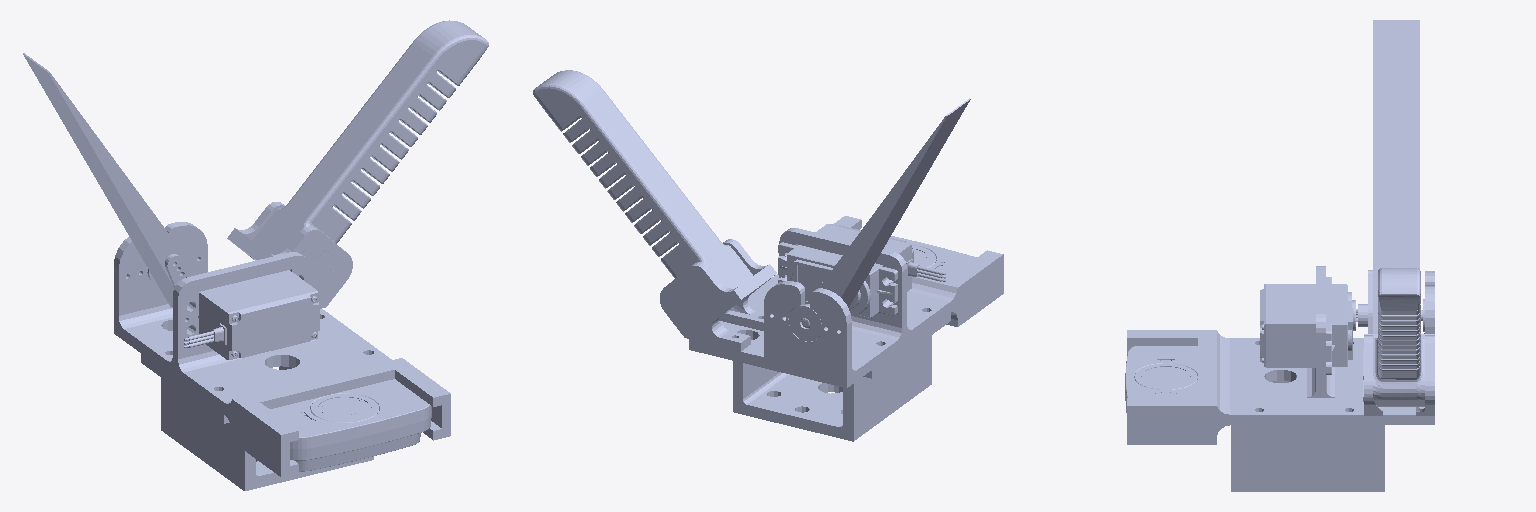
The robot description file, URDF, robot "hybrid_griper_v3":
<?xml version="1.0" encoding="utf-8"?>
<!-- This URDF was automatically created by SolidWorks to URDF Exporter! Originally created by [author] ([email redacted])
     Commit Version: 1.5.1-0-g916b5db  Build Version: 1.5.7152.31018
     For more information, please see http://wiki.ros.org/sw_urdf_exporter -->
<robot
  name="hybrid_griper_v3">
  <link
    name="base_link">
    <inertial>
      <origin
        xyz="-0.000320761764060993 -0.0099655398508367 0.0371236864658835"
        rpy="0 0 0" />
      <mass
        value="0.175783856174279" />
      <inertia
        ixx="0.000113489188478817"
        ixy="5.61258211541969E-06"
        ixz="2.09431938452274E-06"
        iyy="8.64631177239551E-05"
        iyz="-7.66839121143775E-06"
        izz="0.000173058088601769" />
    </inertial>
    <visual>
      <origin
        xyz="0 0 0"
        rpy="0 0 0" />
      <geometry>
        <mesh
          filename="package://hybrid_griper_v3/meshes/base_link.STL" />
      </geometry>
      <material
        name="">
        <color
          rgba="0.792156862745098 0.819607843137255 0.933333333333333 1" />
      </material>
    </visual>
    <collision>
      <origin
        xyz="0 0 0"
        rpy="0 0 0" />
      <geometry>
        <mesh
          filename="package://hybrid_griper_v3/meshes/base_link.STL" />
      </geometry>
    </collision>
  </link>
  <link
    name="soft_tip_link">
    <inertial>
      <origin
        xyz="0.0513127009948888 5.77278609636966E-08 -0.043364297507428"
        rpy="0 0 0" />
      <mass
        value="0.0267549348618613" />
      <inertia
        ixx="2.15591207240061E-05"
        ixy="5.21330174564123E-11"
        ixz="1.8473049274251E-05"
        iyy="3.93840137119763E-05"
        iyz="-3.51868336287335E-11"
        izz="1.9846792382987E-05" />
    </inertial>
    <visual>
      <origin
        xyz="0 0 0"
        rpy="0 0 0" />
      <geometry>
        <mesh
          filename="package://hybrid_griper_v3/meshes/soft_tip_link.STL" />
      </geometry>
      <material
        name="">
        <color
          rgba="0.792156862745098 0.819607843137255 0.933333333333333 1" />
      </material>
    </visual>
    <collision>
      <origin
        xyz="0 0 0"
        rpy="0 0 0" />
      <geometry>
        <mesh
          filename="package://hybrid_griper_v3/meshes/soft_tip_link.STL" />
      </geometry>
    </collision>
  </link>
  <joint
    name="soft_tip_joint"
    type="fixed">
    <origin
      xyz="0.115964891681028 0.0385 0.133590429176335"
      rpy="0 0 -3.14159265358979" />
    <parent
      link="base_link" />
    <child
      link="soft_tip_link" />
    <axis
      xyz="0 0 0" />
  </joint>
  <link
    name="rigid_link">
    <inertial>
      <origin
        xyz="-9.54097911787244E-18 -0.0118136347871613 0"
        rpy="0 0 0" />
      <mass
        value="0.000820983994919956" />
      <inertia
        ixx="5.00055618867767E-08"
        ixy="-2.09116447093901E-24"
        ixz="2.61223821261459E-08"
        iyy="7.32461854429735E-08"
        iyz="6.33548442265733E-24"
        izz="2.70905511726658E-08" />
    </inertial>
    <visual>
      <origin
        xyz="0 0 0"
        rpy="0 0 0" />
      <geometry>
        <mesh
          filename="package://hybrid_griper_v3/meshes/rigid_link.STL" />
      </geometry>
      <material
        name="">
        <color
          rgba="0.792156862745098 0.819607843137255 0.933333333333333 1" />
      </material>
    </visual>
    <collision>
      <origin
        xyz="0 0 0"
        rpy="0 0 0" />
      <geometry>
        <mesh
          filename="package://hybrid_griper_v3/meshes/rigid_link.STL" />
      </geometry>
    </collision>
  </link>
  <joint
    name="rigid_joint"
    type="revolute">
    <origin
      xyz="-0.018 0.03725 0.06"
      rpy="0 0 0" />
    <parent
      link="base_link" />
    <child
      link="rigid_link" />
    <axis
      xyz="0 1 0" />
    <limit
      lower="0"
      upper="0"
      effort="0"
      velocity="0" />
  </joint>
  <link
    name="rigid_tip_link">
    <inertial>
      <origin
        xyz="-0.0460123173688864 -7.42043869092768E-05 -0.0782913856748643"
        rpy="0 0 0" />
      <mass
        value="0.0186208014040289" />
      <inertia
        ixx="1.68517477689943E-05"
        ixy="-2.45100679286071E-08"
        ixz="-9.50164820507282E-06"
        iyy="2.1951785283255E-05"
        iyz="-4.05772453693031E-08"
        izz="6.37021409822806E-06" />
    </inertial>
    <visual>
      <origin
        xyz="0 0 0"
        rpy="0 0 0" />
      <geometry>
        <mesh
          filename="package://hybrid_griper_v3/meshes/rigid_tip_link.STL" />
      </geometry>
      <material
        name="">
        <color
          rgba="0.792156862745098 0.819607843137255 0.933333333333333 1" />
      </material>
    </visual>
    <collision>
      <origin
        xyz="0 0 0"
        rpy="0 0 0" />
      <geometry>
        <mesh
          filename="package://hybrid_griper_v3/meshes/rigid_tip_link.STL" />
      </geometry>
    </collision>
  </link>
  <joint
    name="rigid_tip_joint"
    type="fixed">
    <origin
      xyz="-0.0637502271835644 0 0.107657180596762"
      rpy="0 0 3.14159265358979" />
    <parent
      link="rigid_link" />
    <child
      link="rigid_tip_link" />
    <axis
      xyz="0 0 0" />
  </joint>
</robot>

--- Render facts (derived) ---
3 views of the same robot in one strip: view 1: azimuth 30°, elevation 25°; view 2: azimuth 150°, elevation 25°; view 3: azimuth 270°, elevation 25° (orthographic).
Model hybrid_griper_v3 with 4 links and 3 joints (1 revolute, 2 fixed), rooted at base_link, posed every joint at zero.
Visible links, largest first — view 1: base_link, soft_tip_link, rigid_tip_link, rigid_link; view 2: base_link, soft_tip_link, rigid_tip_link; view 3: base_link, rigid_tip_link, soft_tip_link, rigid_link.
Link boxes in pixels (box(x1,y1,x2,y2)): base_link: box(114, 202, 450, 490); soft_tip_link: box(253, 20, 488, 274); rigid_tip_link: box(23, 53, 192, 307); rigid_link: box(165, 254, 200, 287); base_link: box(660, 216, 1003, 441); soft_tip_link: box(533, 70, 752, 288); rigid_tip_link: box(801, 98, 970, 327); base_link: box(1125, 266, 1434, 491); rigid_tip_link: box(1373, 20, 1422, 333); soft_tip_link: box(1373, 268, 1424, 406); rigid_link: box(1358, 270, 1372, 333).
Size in the robot's own frame: 0.1991 by 0.1306 by 0.1677 metres.
4 mesh visuals loaded from 4 distinct referenced files (4 binary STL).